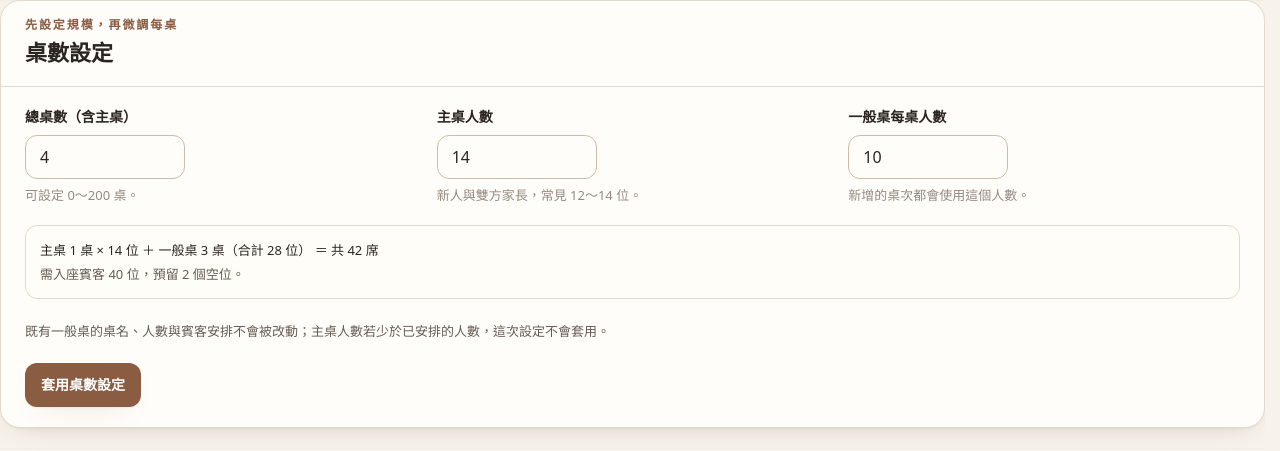
seating table forms › prefills main and regular capacities and shows a live seat total
This screenshot has width=1280, height=451.
Expected: the number field labelled "主桌人數" holds "14", [437,135,597,179]
Expected: the number field labelled "一般桌每桌人數" holds "10", [848,135,1008,179]
Replace the text in the number field labelled "總桌數（含主桌）" with "5": (105, 157) [25,135,185,179]
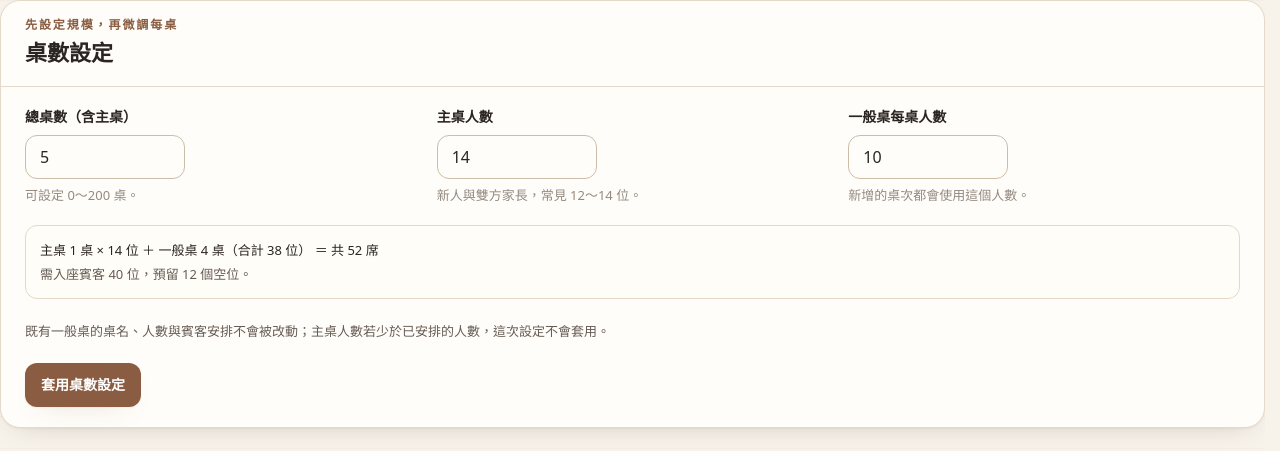
Expected: the text "主桌 1 桌 × 14 位 ＋ 一般桌 4 桌（合計 38 位） ＝ 共 52 席" is shown, [40,242,379,260]
Replace the text in the number field labelled "總桌數（含主桌）" with "3": (105, 157) [25,135,185,179]
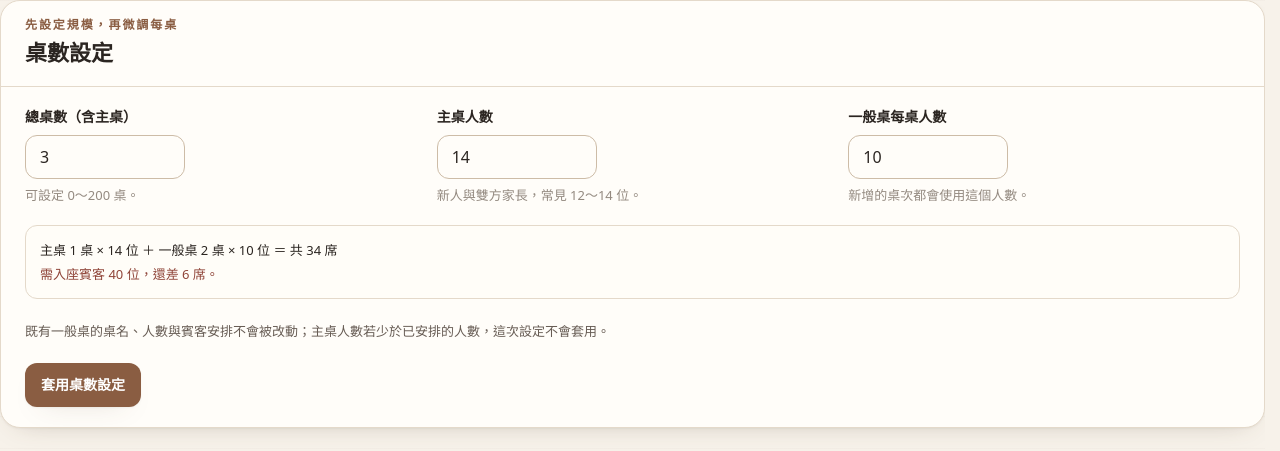
Expected: the text "需入座賓客 40 位，還差 6 席。" is shown, [40,266,219,284]
